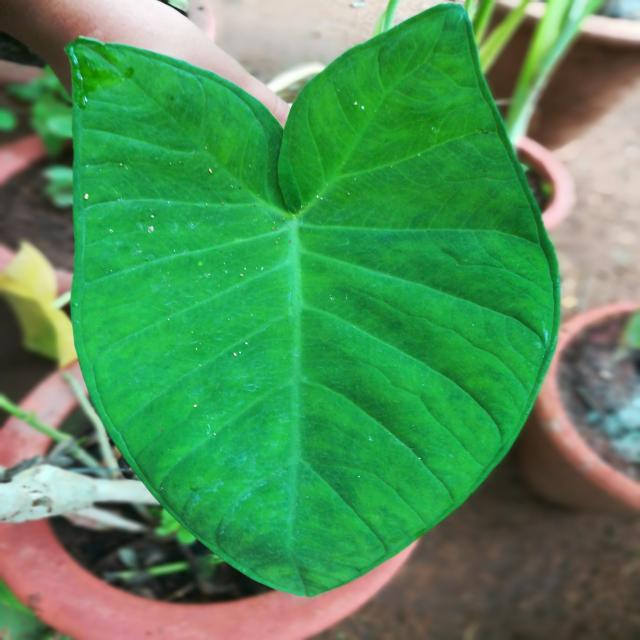taro: (68, 6, 558, 524)
